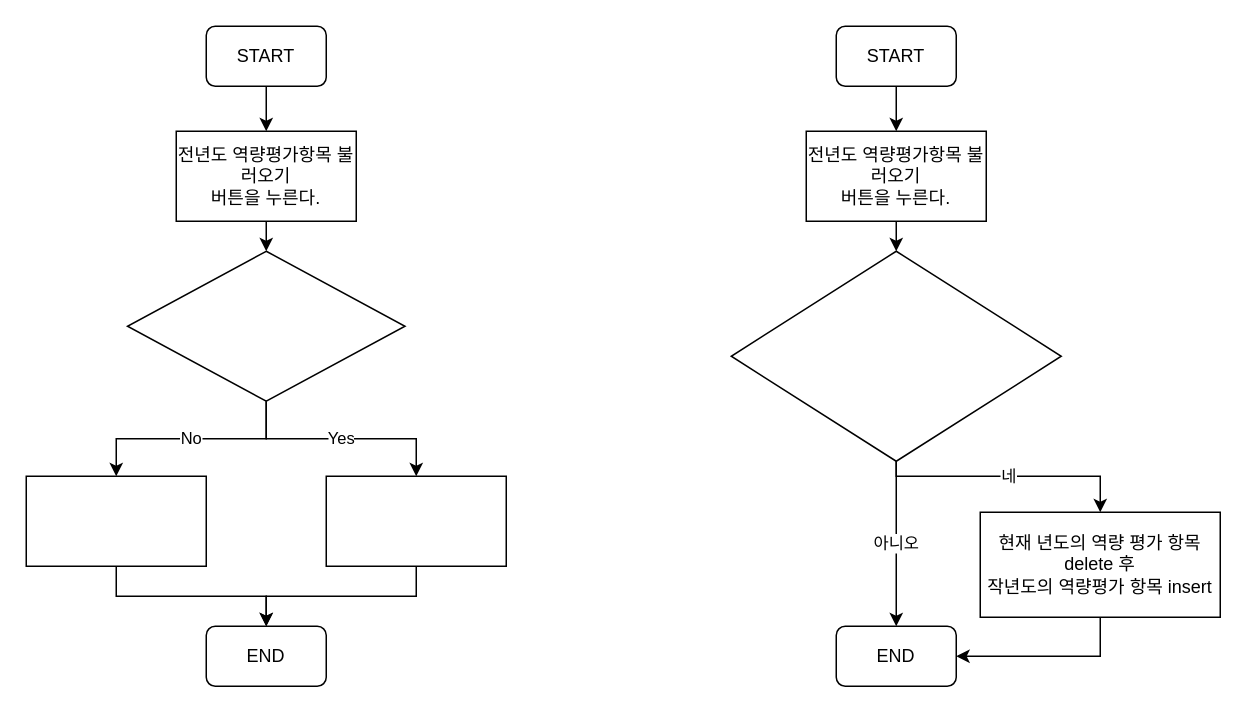
The diagram is 1247 pixels wide and 713 high, and some of its shapes have lost their labels. Each missing label, with the centre of its shape:
"(현재 년도)의 모든 역량 평가 항목들이 (작년도)의 역량평가 항목들로 리셋됩니다. 정말 하시겠습니까?" goes at pixel 895 355.
"isert한다" goes at pixel 115 520.
"이미 작년도 역량평가 항목들로 반영이 되었습니다." goes at pixel 415 520.
"해당 년도에 작년도 역량평가 항목이 반영이 된적있는가?" goes at pixel 265 325.
